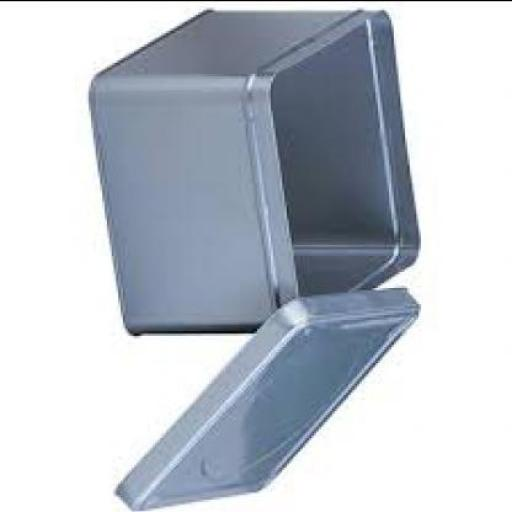metal: (94, 4, 424, 334), (116, 284, 423, 507)
